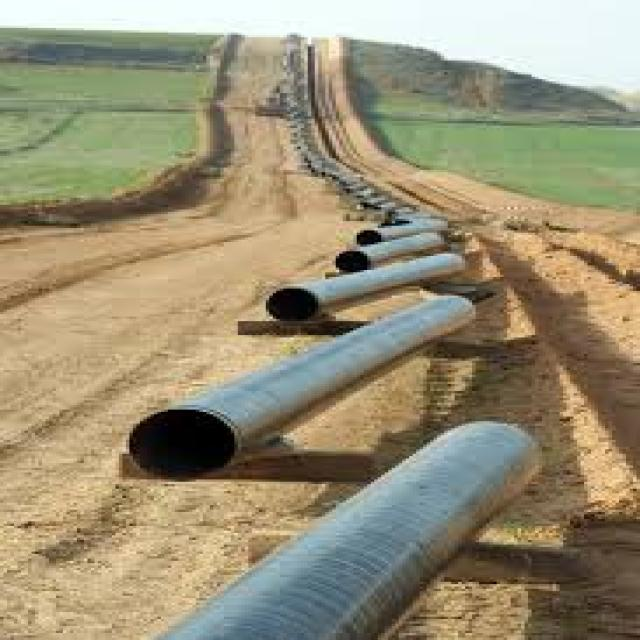gas: (158, 421, 537, 639), (131, 299, 471, 472), (269, 254, 464, 319), (336, 233, 443, 272)
